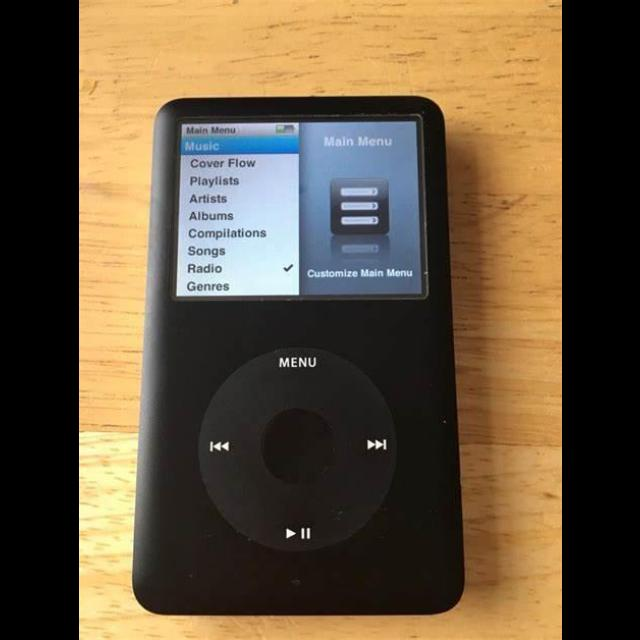Music-Player: (124, 85, 470, 625)
